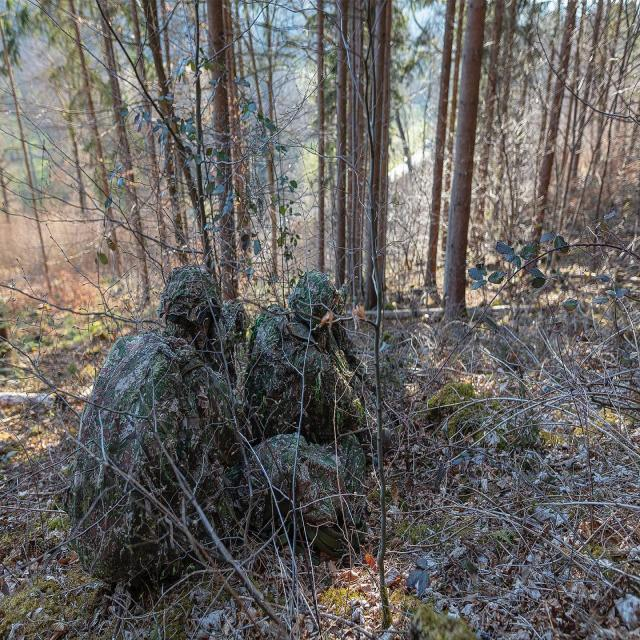Human: (70, 269, 241, 584), (238, 274, 394, 567)
